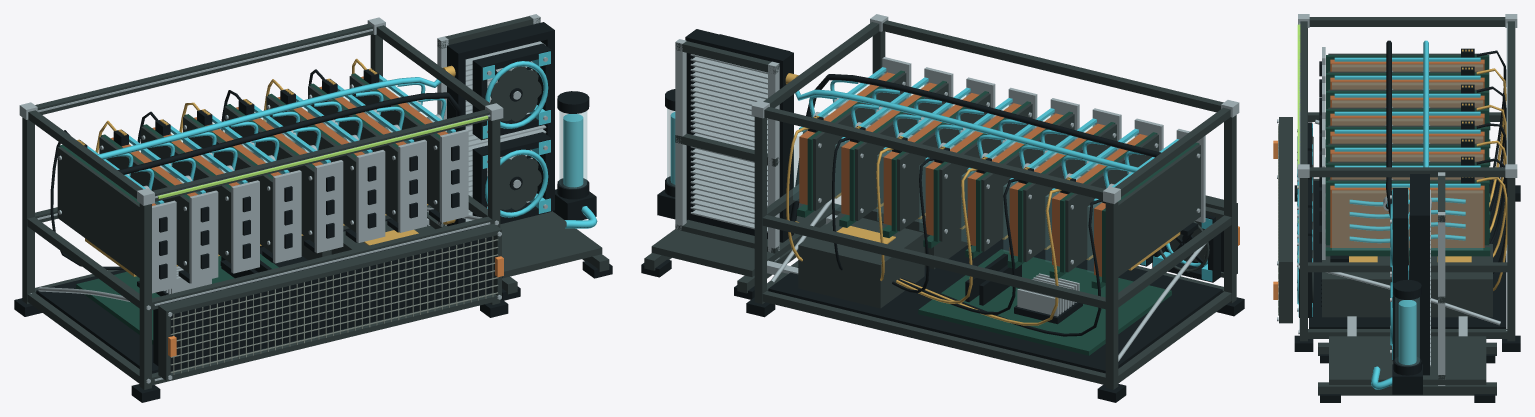
The model's file is rig-8-carbon-liquid.glb.
3 renders of one model, left to right at view 1: azimuth 30°, elevation 25°; view 2: azimuth 150°, elevation 25°; view 3: azimuth 270°, elevation 25°, orthographic. The views are drawn at different scales.
Parts seen in each view (by area): view 1: Anodized graphite (×5), Brushed aluminium (×10), gpu-liquid (×8), Rubber and ABS (×12), filter-carbon, Coolant blue (×4), Filter fibres, cooling-liquid, Circuit board, rig-8-carbon-liquid; view 2: Anodized graphite (×2), gpu-liquid (×8), Rubber and ABS (×4), Brushed aluminium (×10), Circuit board, Coolant blue, slot-cable-1, slot-cable-2, slot-cable-3, slot-cable-4, cooling-liquid, slot-cable-5; view 3: Anodized graphite (×3), gpu-liquid (×8), Rubber and ABS (×7), Coolant blue (×11), Brushed aluminium (×3), cooling-liquid, Circuit board, rig-8-carbon-liquid, Contacts, slot-cable-1, slot-cable-8, slot-cable-2 (+5 smaller).
Part boxes in pixels (<box>): Anodized graphite (×5): <box>22,16,609,389</box>; Brushed aluminium (×10): <box>19,14,546,383</box>; gpu-liquid (×8): <box>57,73,449,277</box>; Rubber and ABS (×12): <box>14,22,612,402</box>; filter-carbon: <box>170,236,493,371</box>; Coolant blue (×4): <box>97,51,597,228</box>; Filter fibres: <box>170,236,498,374</box>; cooling-liquid: <box>559,111,586,188</box>; Circuit board: <box>76,254,278,344</box>; rig-8-carbon-liquid: <box>158,115,488,198</box>; Anodized graphite (×2): <box>644,20,1236,389</box>; gpu-liquid (×8): <box>793,70,1200,282</box>; Rubber and ABS (×4): <box>641,29,1244,402</box>; Brushed aluminium (×10): <box>675,14,1239,361</box>; Circuit board: <box>797,204,1171,355</box>; Coolant blue: <box>795,80,1145,188</box>; slot-cable-1: <box>901,199,1102,336</box>; slot-cable-2: <box>900,189,1061,325</box>; slot-cable-3: <box>898,178,1019,314</box>; slot-cable-4: <box>896,168,977,303</box>; cooling-liquid: <box>667,108,674,186</box>; slot-cable-5: <box>892,158,935,293</box>; Anodized graphite (×3): <box>1279,17,1515,395</box>; gpu-liquid (×8): <box>1326,53,1489,249</box>; Rubber and ABS (×7): <box>1294,40,1520,402</box>; Coolant blue (×11): <box>1334,40,1480,389</box>; Brushed aluminium (×3): <box>1298,14,1517,385</box>; cooling-liquid: <box>1395,297,1419,365</box>; Circuit board: <box>1325,121,1490,262</box>; rig-8-carbon-liquid: <box>1297,24,1300,168</box>; Contacts: <box>1349,256,1471,262</box>; slot-cable-1: <box>1476,50,1506,192</box>; slot-cable-8: <box>1476,177,1507,290</box>; slot-cable-2: <box>1476,68,1506,207</box>.
Bounding box in the file's own units: 8.43 × 3.32 × 4.01.
